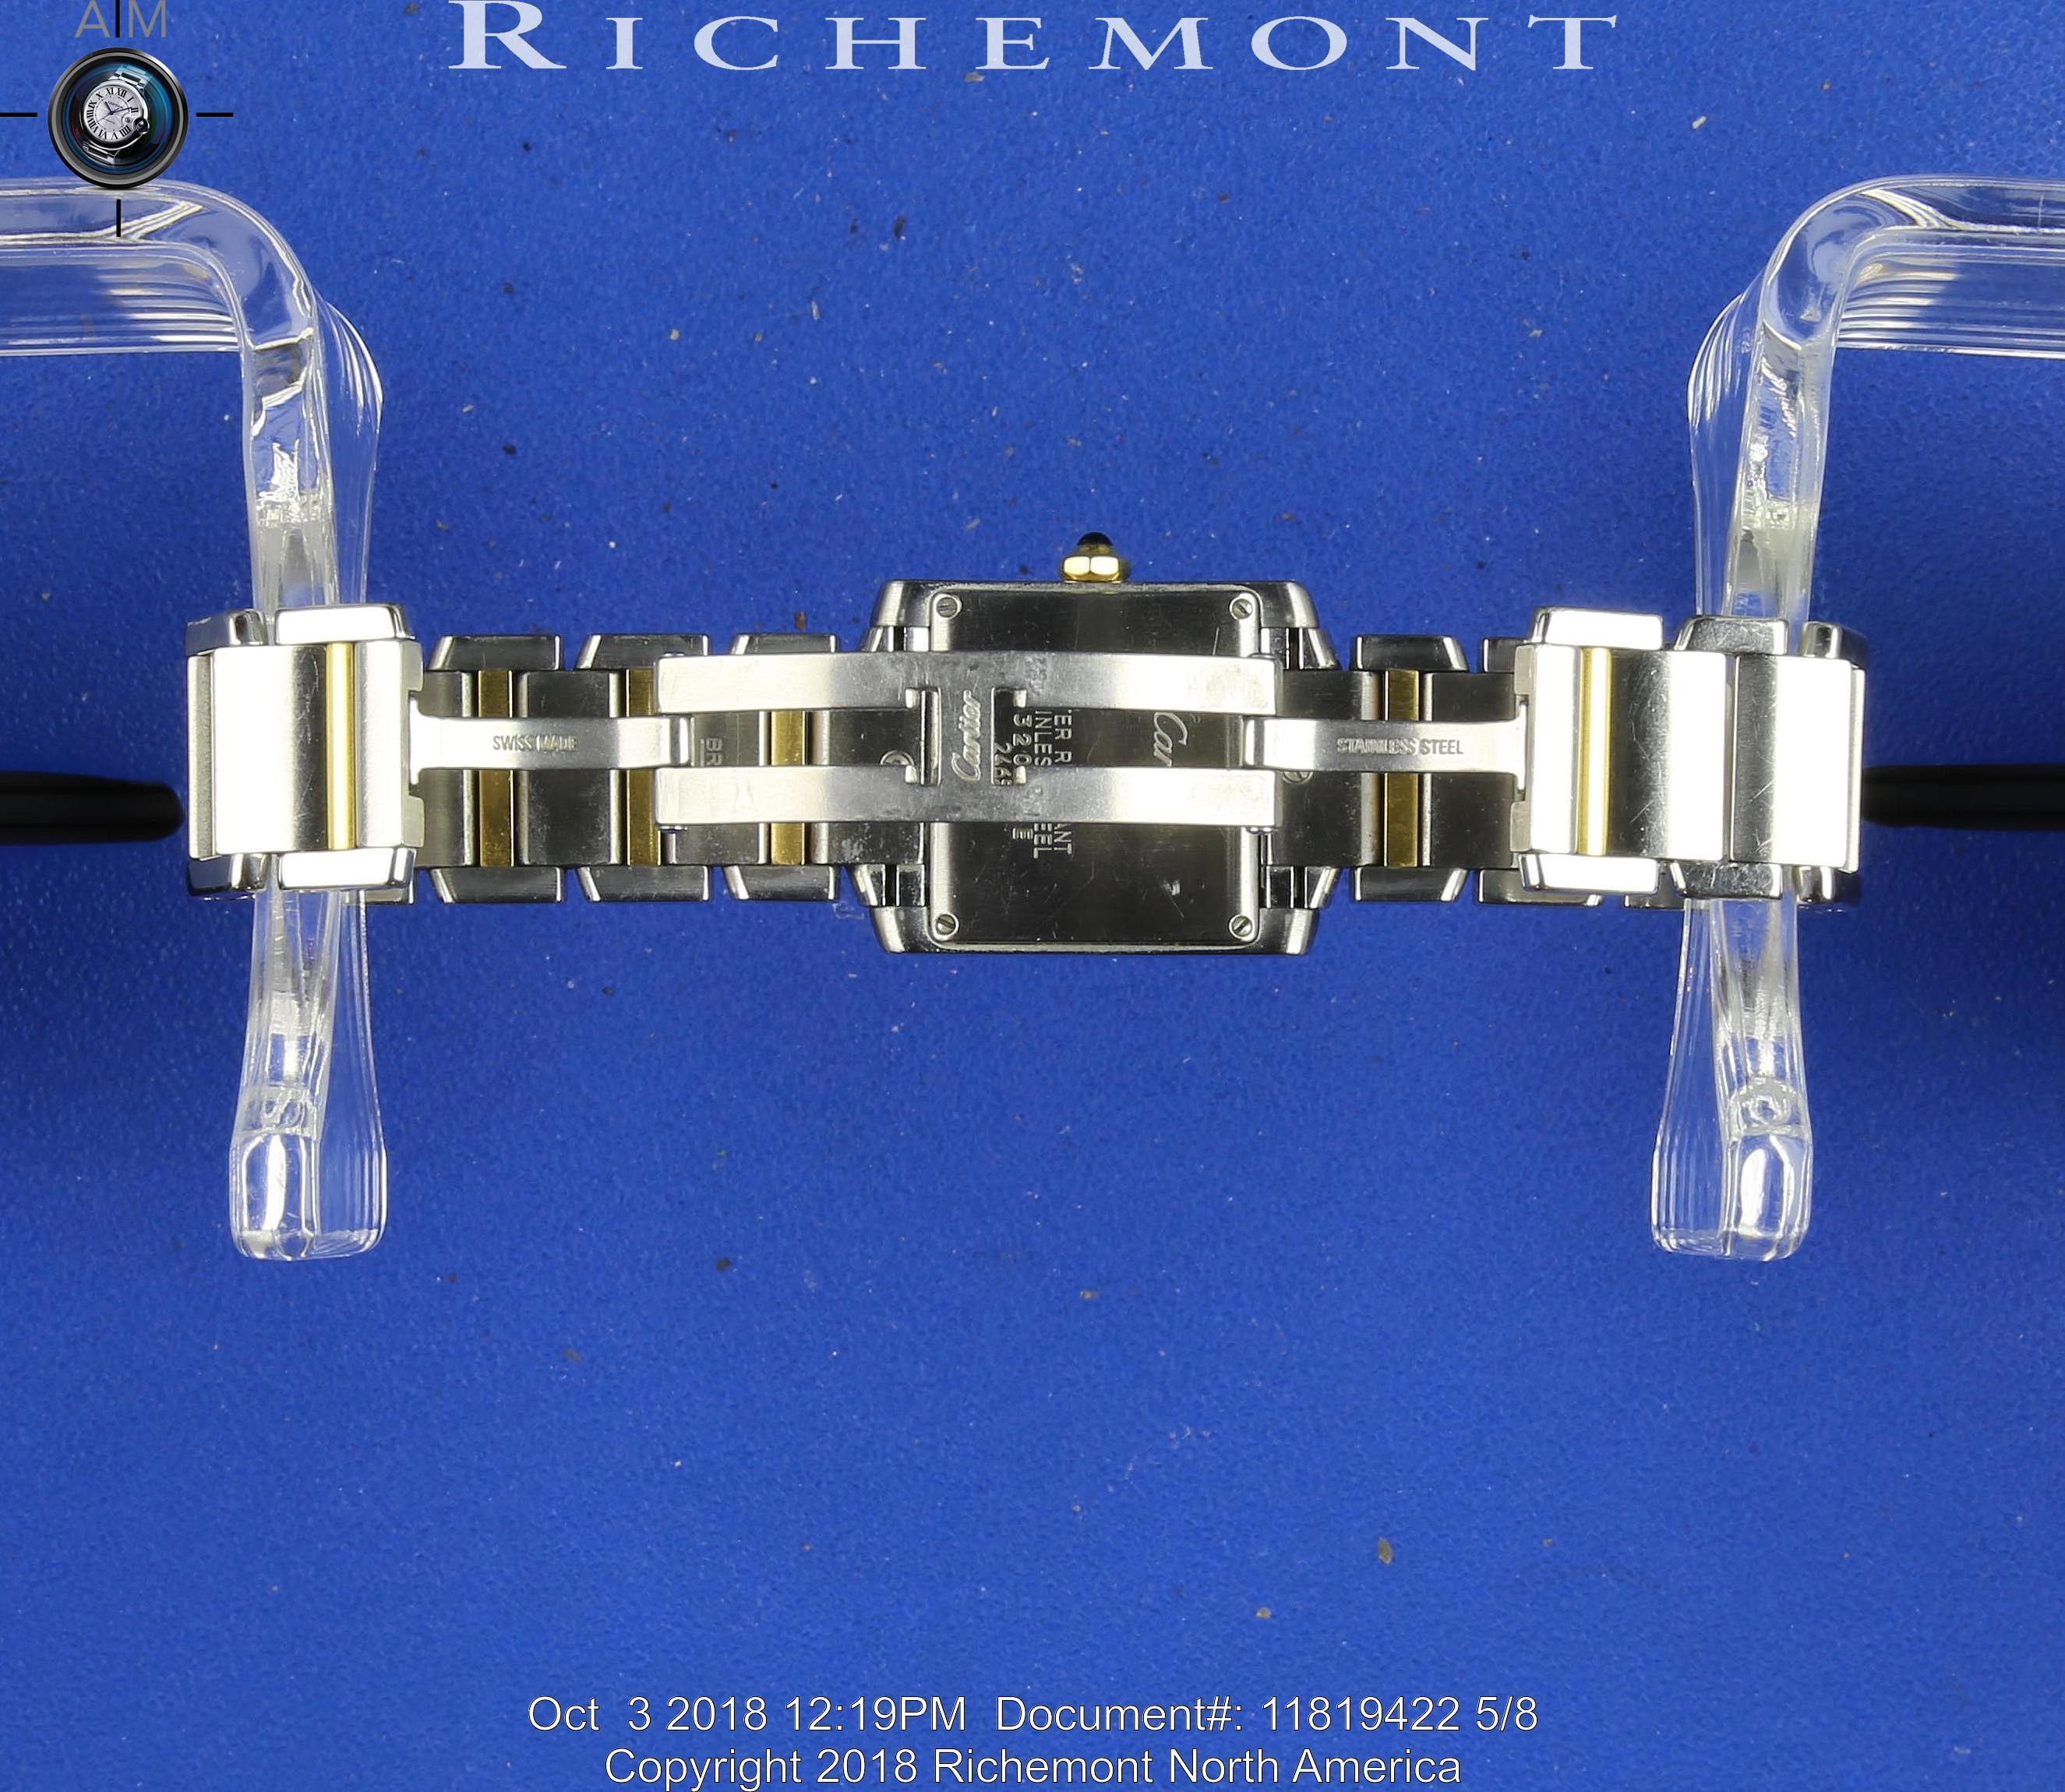watchback: (876, 570, 1320, 950)
